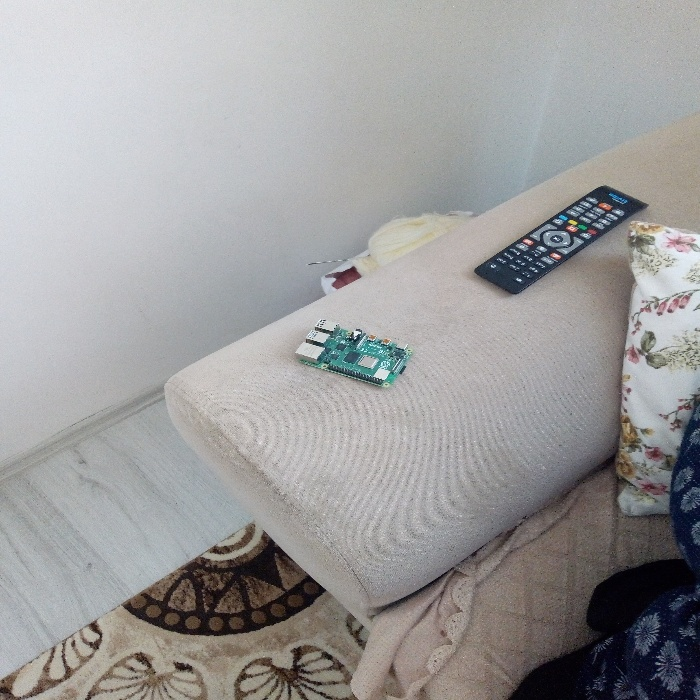raspberry: (266, 306, 420, 399)
